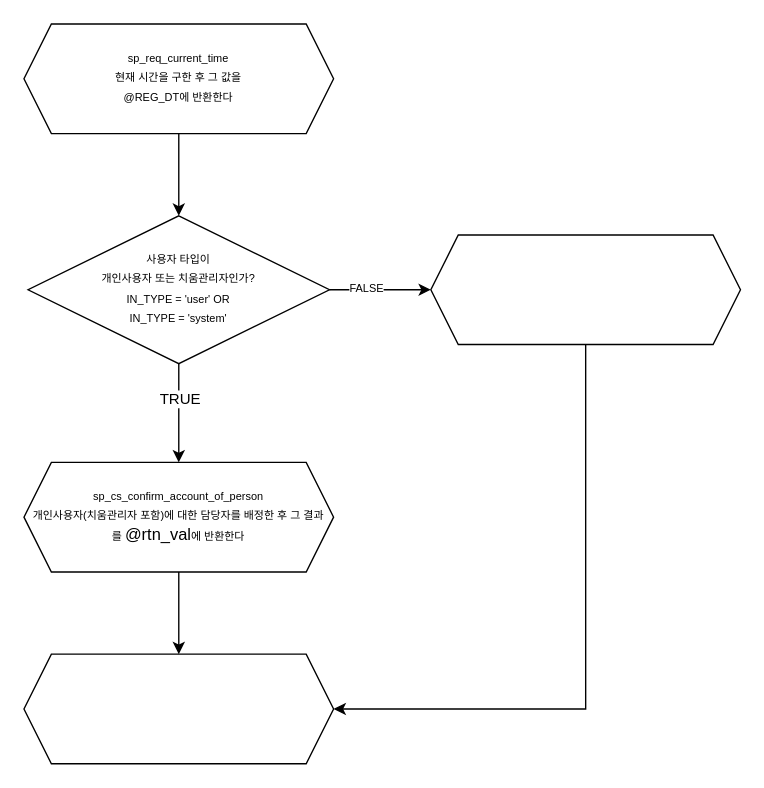
The diagram is 764 pixels wide and 788 high, and some of its shapes have lost their labels. Here are the shapes that lost their labels. From the top down, the box of each, then its label:
(429, 234, 740, 345): sp_cs_confirm_account_of_site 사업자(사이트)에 대한 담당자를 배정한 후 그 결과를 @rtn_val 에 반환한다
(23, 653, 334, 764): sp_return_results (@rtn_val, @msg_txt, @json_data) 결과를 반환한다.
